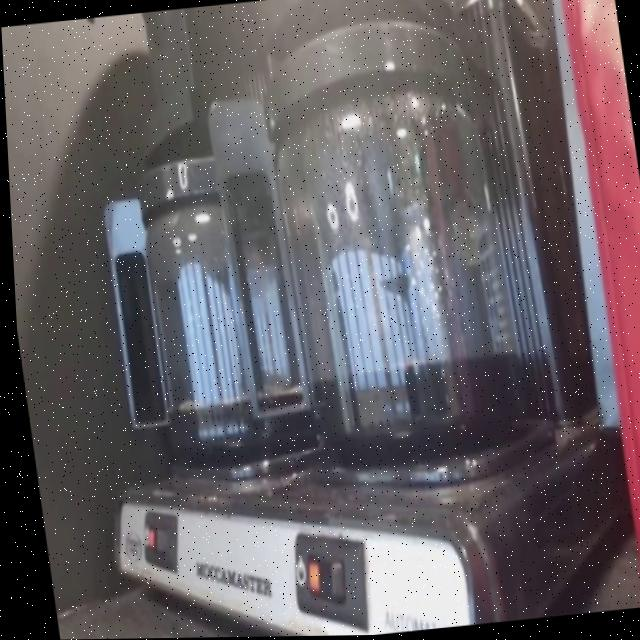coffee: (245, 12, 538, 467), (121, 119, 313, 477)
